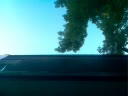window: (0, 20, 48, 96), (55, 79, 81, 96), (54, 45, 76, 61), (104, 84, 124, 96), (103, 59, 111, 69)
